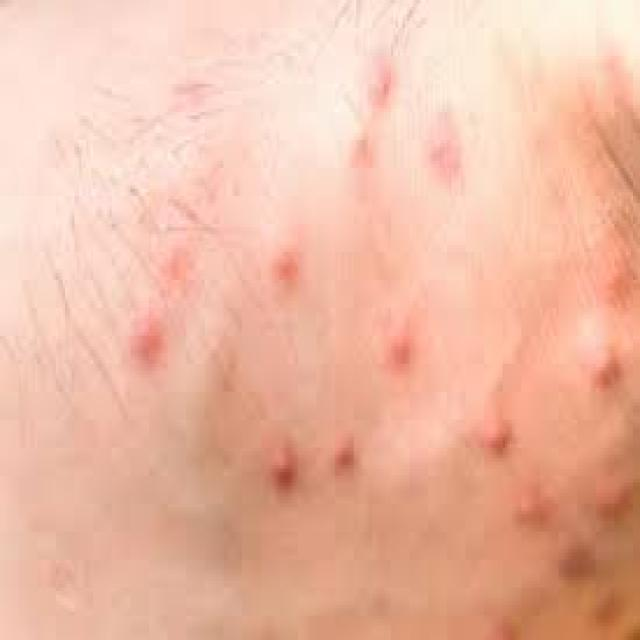kene: (273, 443, 302, 499)
